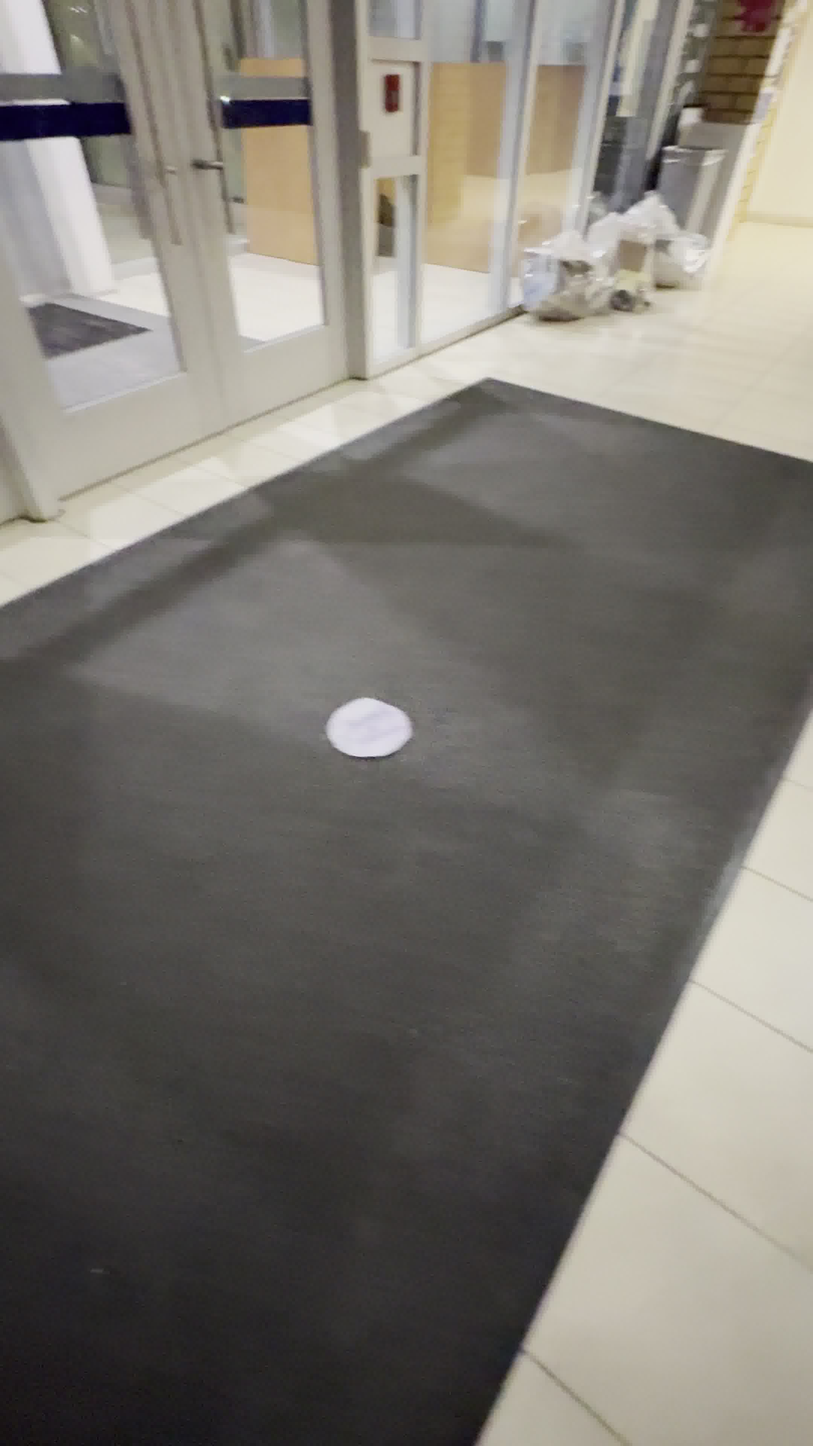Target: (325, 696, 414, 759)
